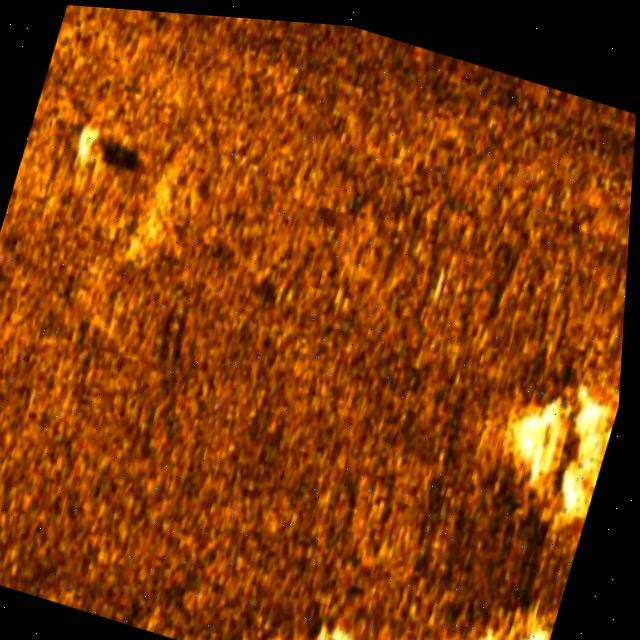bedrock group: (274, 525, 567, 640)
